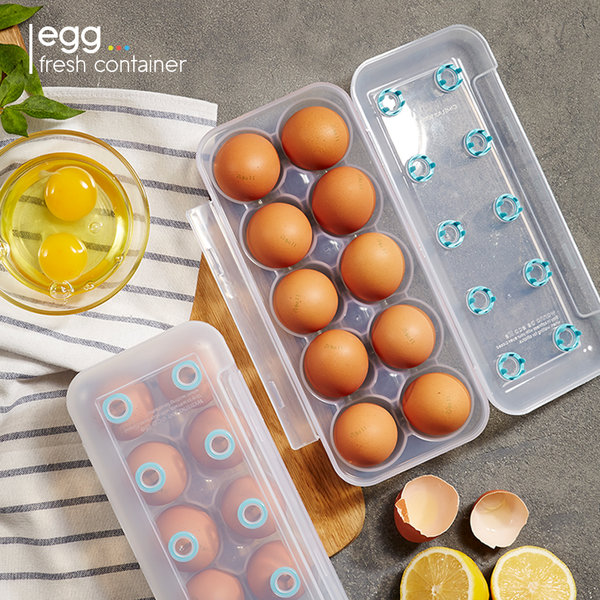egg: (214, 103, 470, 462)
